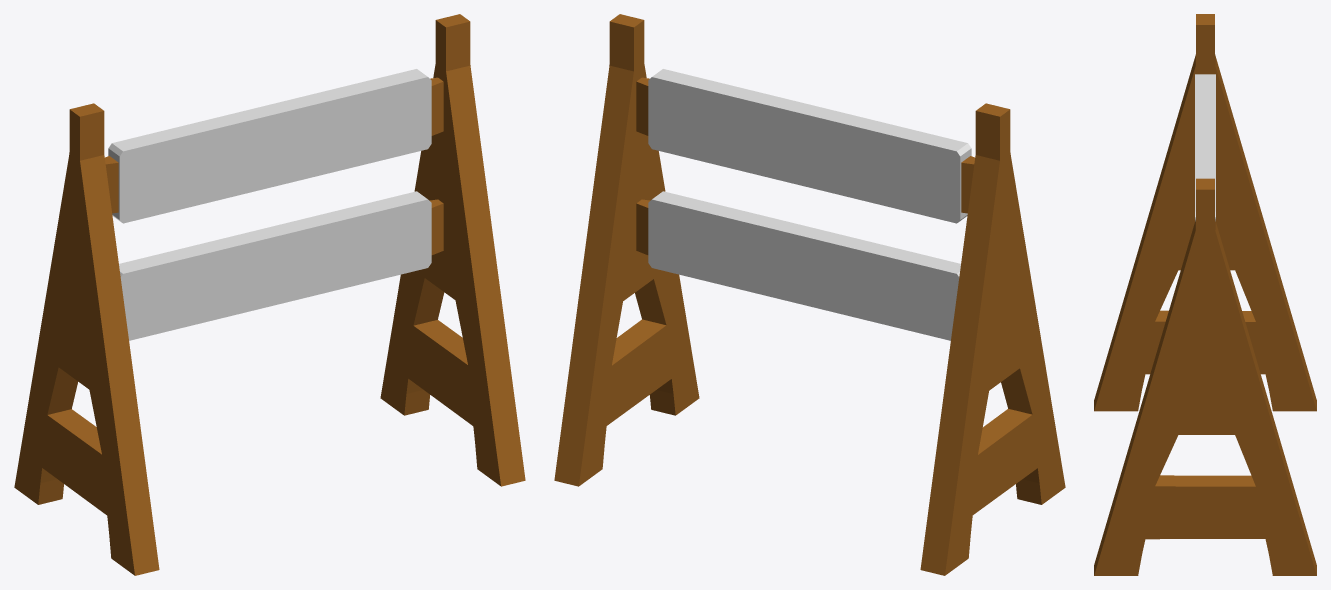
The picture shows the model from 3 angles, left to right: view 1: azimuth 30°, elevation 25°; view 2: azimuth 150°, elevation 25°; view 3: azimuth 270°, elevation 25°; orthographic projection. The views are drawn at different scales.
Visible parts, largest first — view 1: Cone; view 2: Cone; view 3: Cone.
Boxes of the visible parts, x1=… form: Cone: x1=14, y1=14, x2=525, y2=575; Cone: x1=554, y1=14, x2=1065, y2=575; Cone: x1=1094, y1=14, x2=1316, y2=575.
Size of the model in its own units: 51.81 by 53.09 by 27.75.
